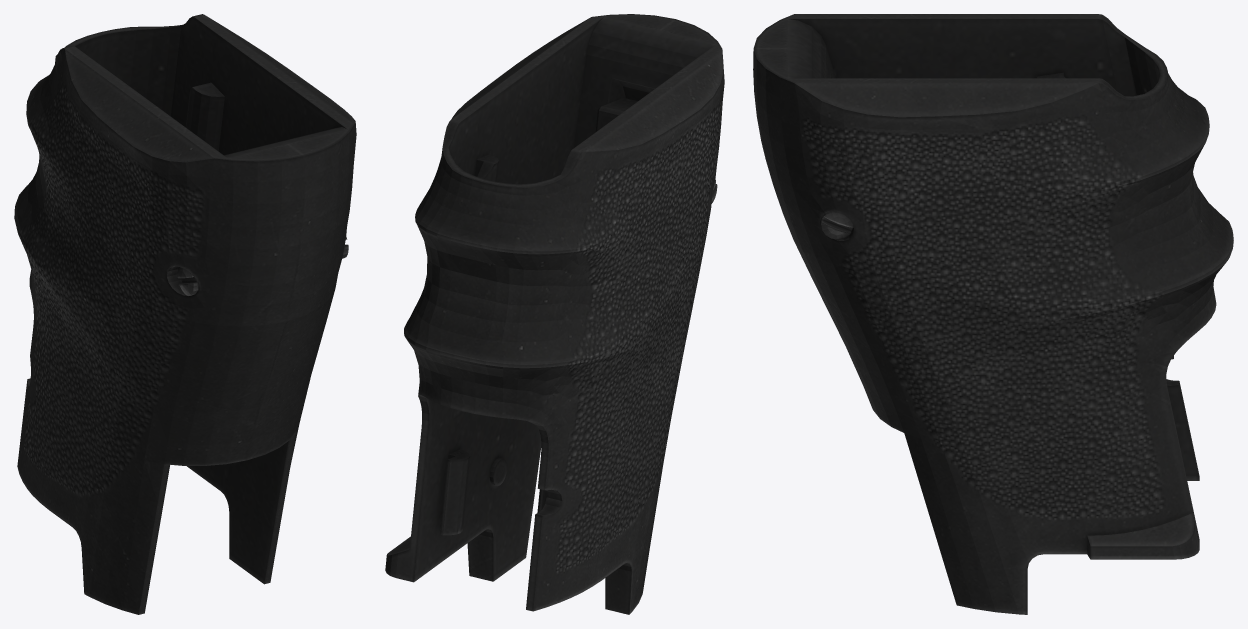
The picture shows the model from 3 angles, left to right: view 1: azimuth 30°, elevation 25°; view 2: azimuth 150°, elevation 25°; view 3: azimuth 270°, elevation 25°; orthographic projection. The views are drawn at different scales.
Parts seen in each view (by area): view 1: TW_66a0da76b6f47fcfeb025e96_PZ_Import; view 2: TW_66a0da76b6f47fcfeb025e96_PZ_Import; view 3: TW_66a0da76b6f47fcfeb025e96_PZ_Import.
Part boxes in pixels (x1,y1,x2,y2): TW_66a0da76b6f47fcfeb025e96_PZ_Import: (14,14,356,614); TW_66a0da76b6f47fcfeb025e96_PZ_Import: (385,14,724,614); TW_66a0da76b6f47fcfeb025e96_PZ_Import: (753,14,1233,614).
Size of the model in its own units: 0.0231 by 0.0456 by 0.0549.
Materials: 1 (1 with a texture image).
